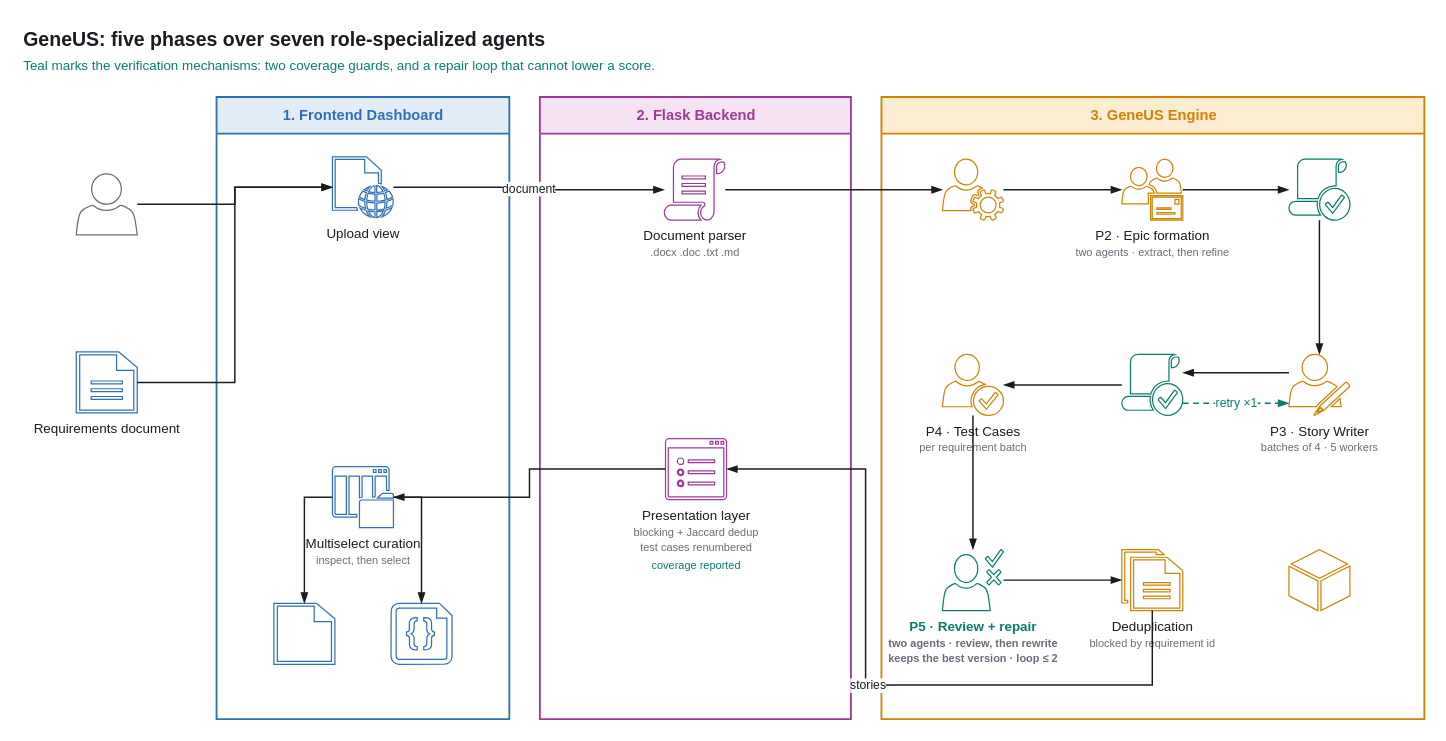
The diagram is 1446 pixels wide and 741 high, and some of its shapes have lost their labels. Each missing label, with the centre of its shape:
"Coverage guard skipped → asked once more" belongs at point (1152, 384).
"Coverage guard unclaimed → recovery epic" belongs at point (1319, 189).
"JSON" belongs at point (421, 633).
"Ollama runtime mistral:7b · qwen2.5:3b contracts · retries · checkpoints" belongs at point (1319, 579).
"P1 · Requirements document vocabulary only" belongs at point (972, 189).
"User" belongs at point (106, 204).
"Word" belongs at point (304, 633).
